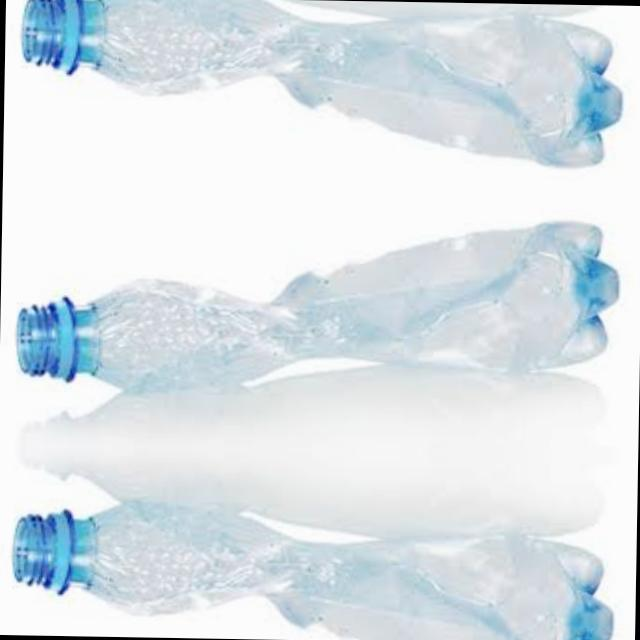Plastic: (1, 192, 628, 408), (5, 0, 630, 186), (0, 490, 621, 640)
